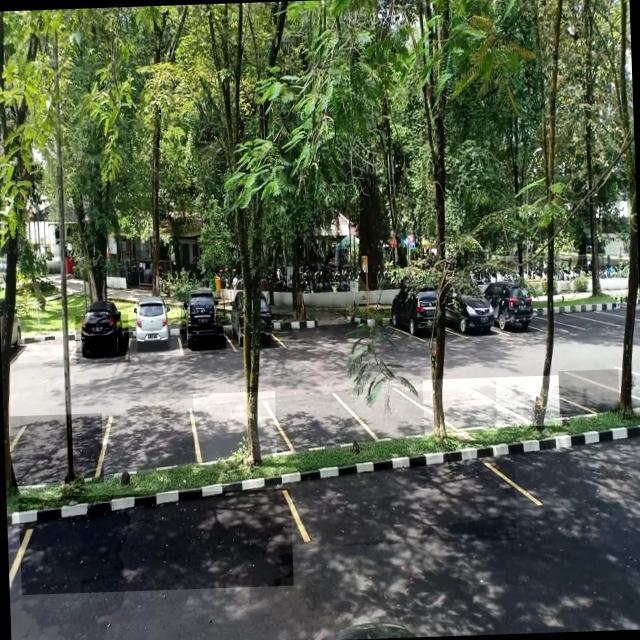empty: (18, 488, 293, 594), (289, 458, 517, 547), (10, 413, 104, 486), (105, 410, 195, 477), (192, 391, 276, 462), (274, 391, 358, 452), (422, 377, 500, 436), (354, 383, 428, 440), (495, 375, 562, 427), (15, 318, 76, 366), (558, 368, 619, 414)
occupied: (128, 305, 182, 360), (75, 314, 130, 364), (180, 300, 226, 356)
